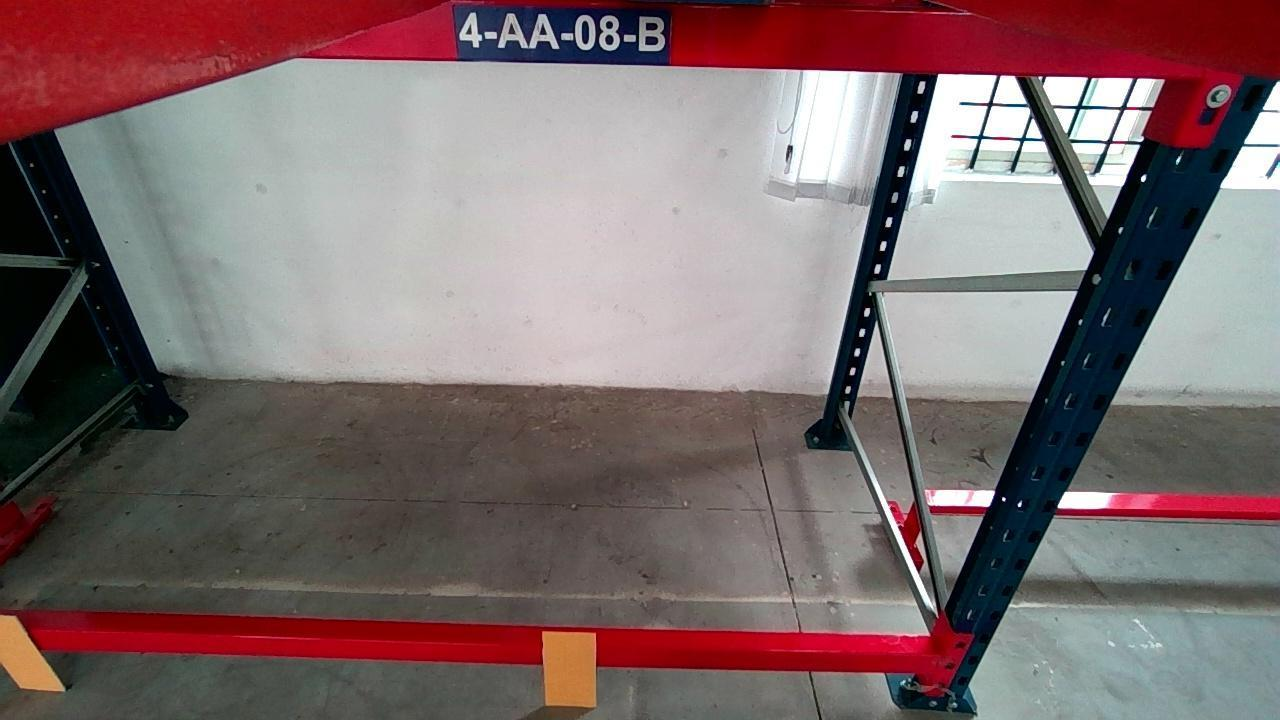h_rack: (315, 0, 1203, 77), (25, 629, 941, 672)
orange_strip: (0, 613, 62, 692), (542, 628, 597, 706)
